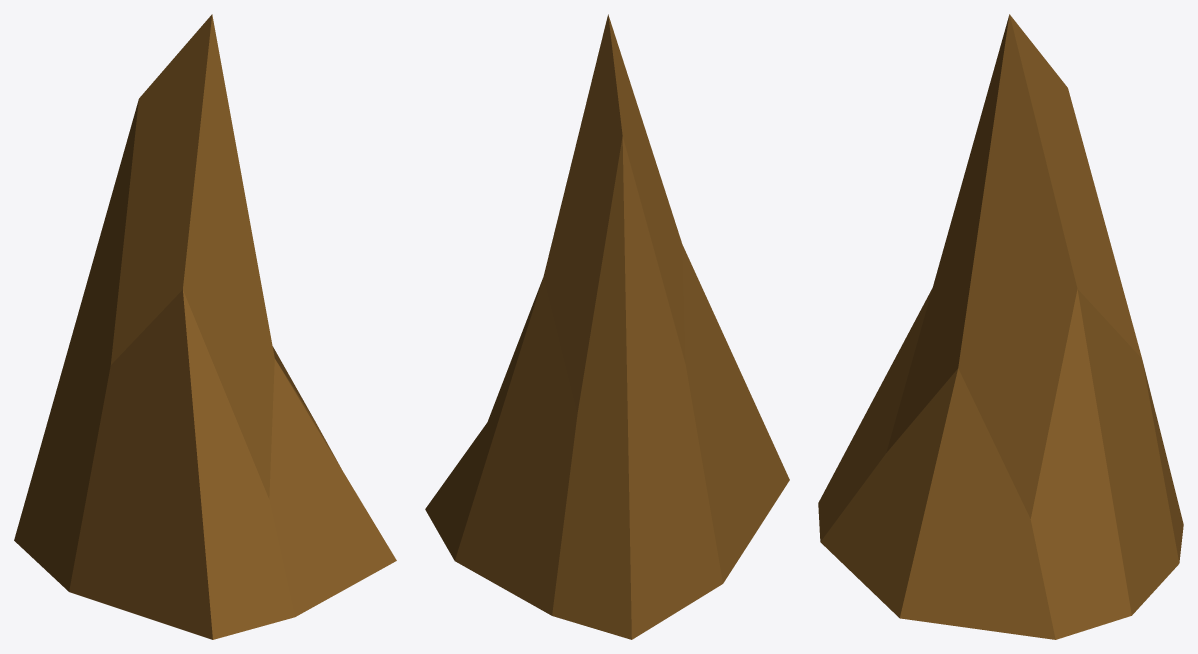
The model's file is estalag 4.fbx.
The picture shows the model from 3 angles, left to right: view 1: azimuth 30°, elevation 25°; view 2: azimuth 150°, elevation 25°; view 3: azimuth 270°, elevation 25°; orthographic projection. The views are drawn at different scales.
Visible parts, largest first — view 1: estalagmite.3; view 2: estalagmite.3; view 3: estalagmite.3.
Boxes of the visible parts, box(x1,y1,x2,y2) form: estalagmite.3: box(14, 14, 396, 639); estalagmite.3: box(425, 14, 789, 639); estalagmite.3: box(818, 14, 1183, 639).
Bounding box in the file's own units: 548 × 983 × 576.
